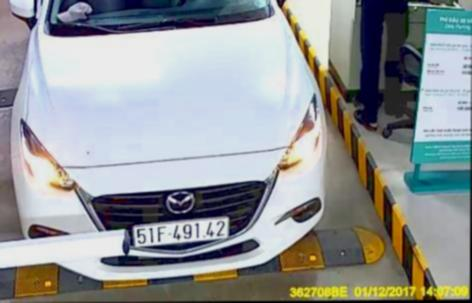License_Plate: (129, 218, 233, 249)
